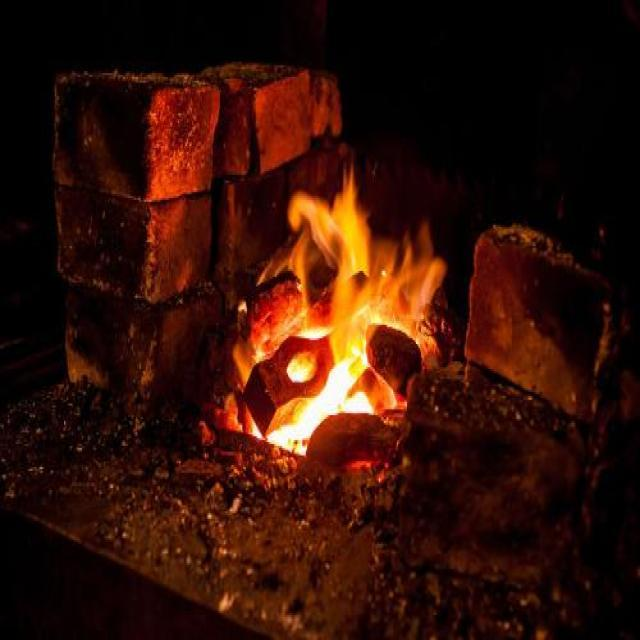Fire: (232, 148, 448, 458)
